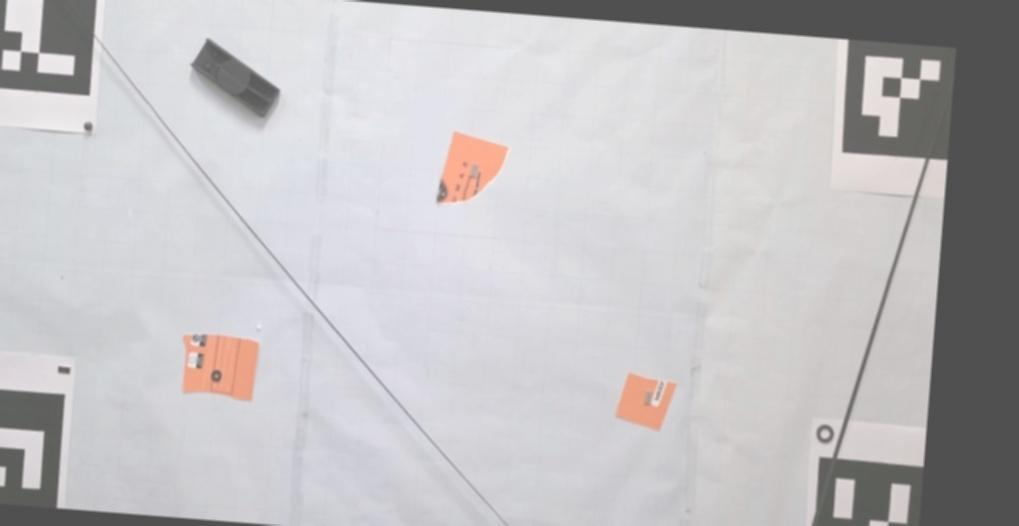obstacle: (190, 38, 280, 117), (436, 130, 509, 204), (183, 332, 258, 402), (615, 373, 677, 431)
